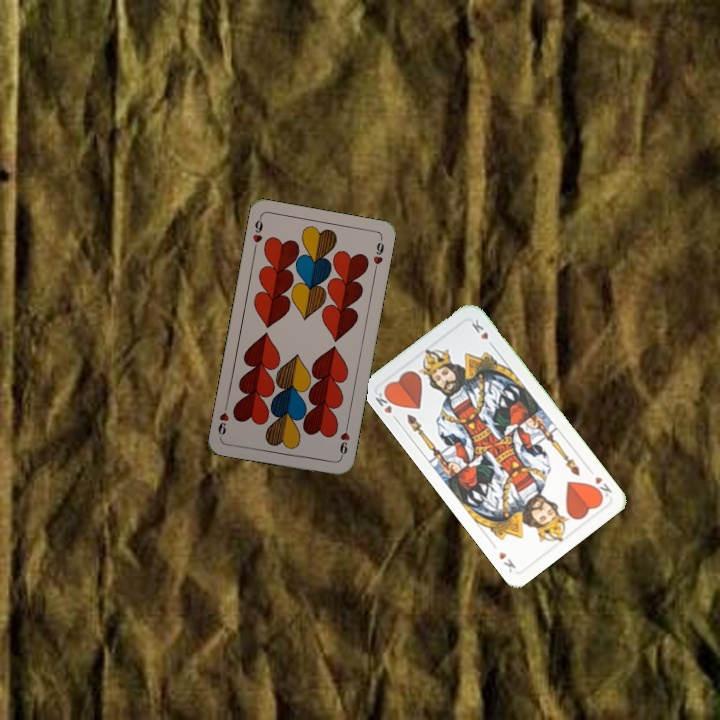H9: (336, 420, 352, 461), (249, 213, 265, 253)
HK: (371, 386, 401, 425), (587, 472, 615, 502)
